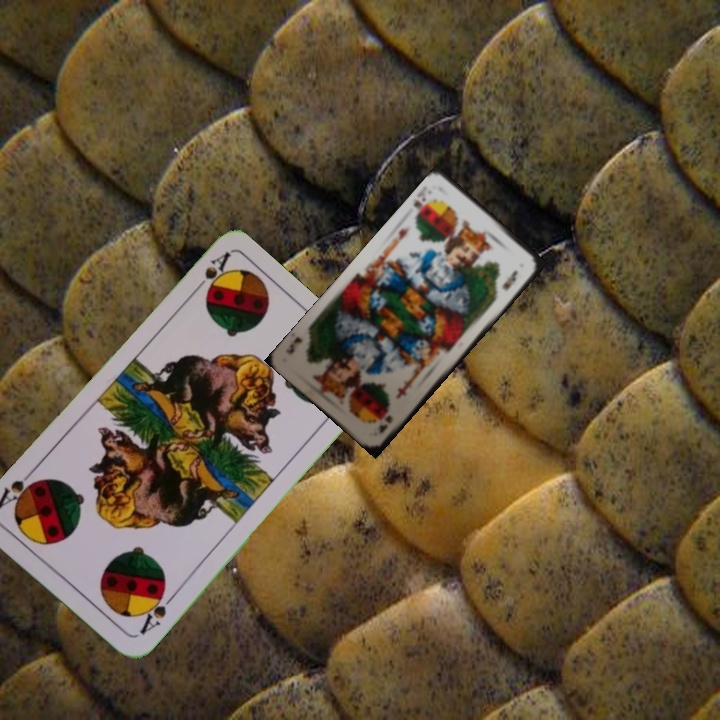SA: (135, 584, 178, 638), (186, 249, 232, 298)
SK: (409, 193, 437, 221), (375, 411, 395, 437)
